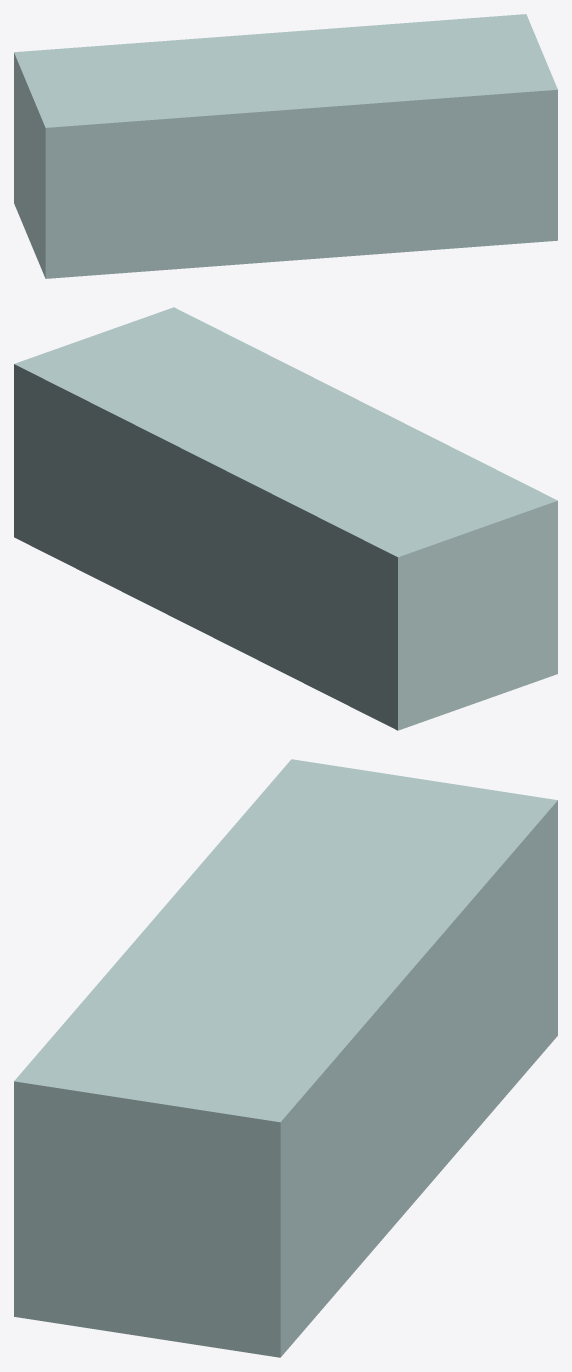
File: SM_Liqude.fbx
The picture shows the model from 3 angles, top to bottom: view 1: azimuth 30°, elevation 25°; view 2: azimuth 150°, elevation 25°; view 3: azimuth 270°, elevation 25°; orthographic projection. The views are drawn at different scales.
Visible parts, largest first — view 1: Liquide; view 2: Liquide; view 3: Liquide.
Part boxes in pixels (x1,y1,x2,y2): Liquide: (14,14,557,278); Liquide: (14,307,557,730); Liquide: (14,759,557,1357).
Size of the model in its own units: 5057 by 1529 by 3201.
